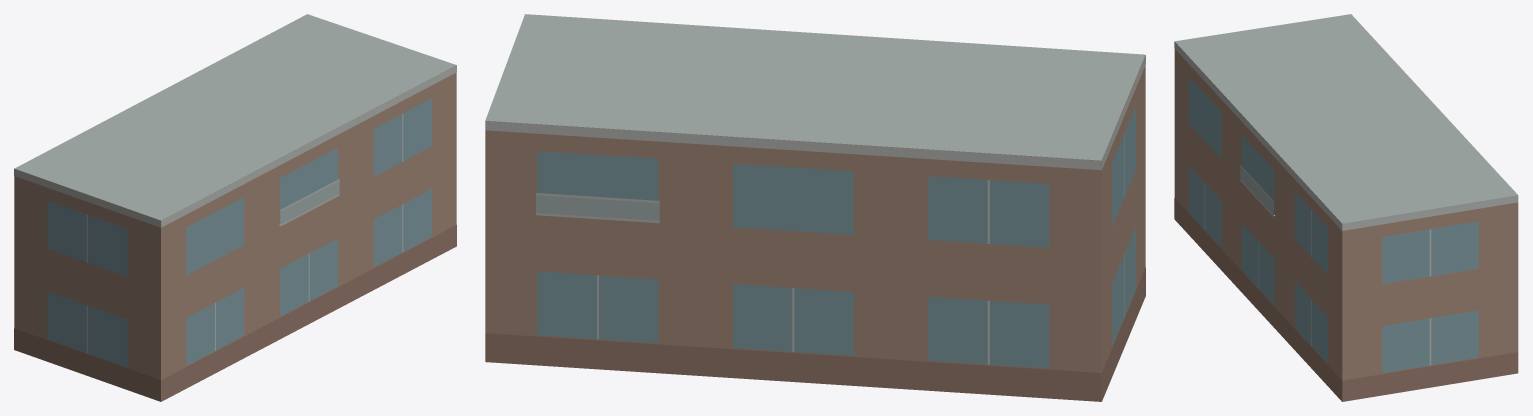
Rendered from survey-upis-32866737.glb.
The picture shows the model from 3 angles, left to right: view 1: azimuth 30°, elevation 25°; view 2: azimuth 150°, elevation 25°; view 3: azimuth 270°, elevation 25°; orthographic projection. The views are drawn at different scales.
Visible parts, largest first — view 1: survey-upis-32866737.tmp; view 2: survey-upis-32866737.tmp; view 3: survey-upis-32866737.tmp.
Part boxes in pixels (x1,y1,x2,y2): survey-upis-32866737.tmp: [14, 14, 456, 401]; survey-upis-32866737.tmp: [485, 14, 1145, 401]; survey-upis-32866737.tmp: [1174, 14, 1518, 401].
Size of the model in its own units: 15.43 by 6.1 by 10.69.
